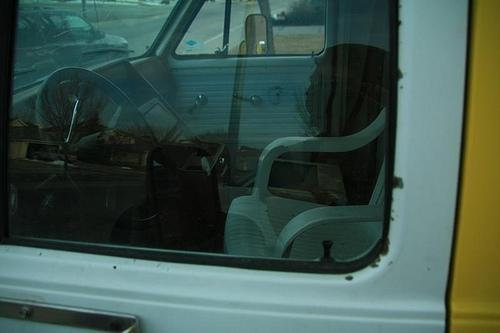car: (9, 6, 132, 85)
truck: (0, 0, 500, 333)
